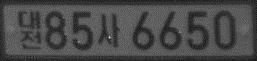0: (213, 9, 236, 50)
5: (71, 10, 94, 50), (186, 10, 209, 50)
6: (159, 10, 182, 51), (131, 11, 154, 50)
8: (44, 10, 68, 50)
대전_V: (17, 10, 42, 50)
사: (97, 13, 120, 47)
